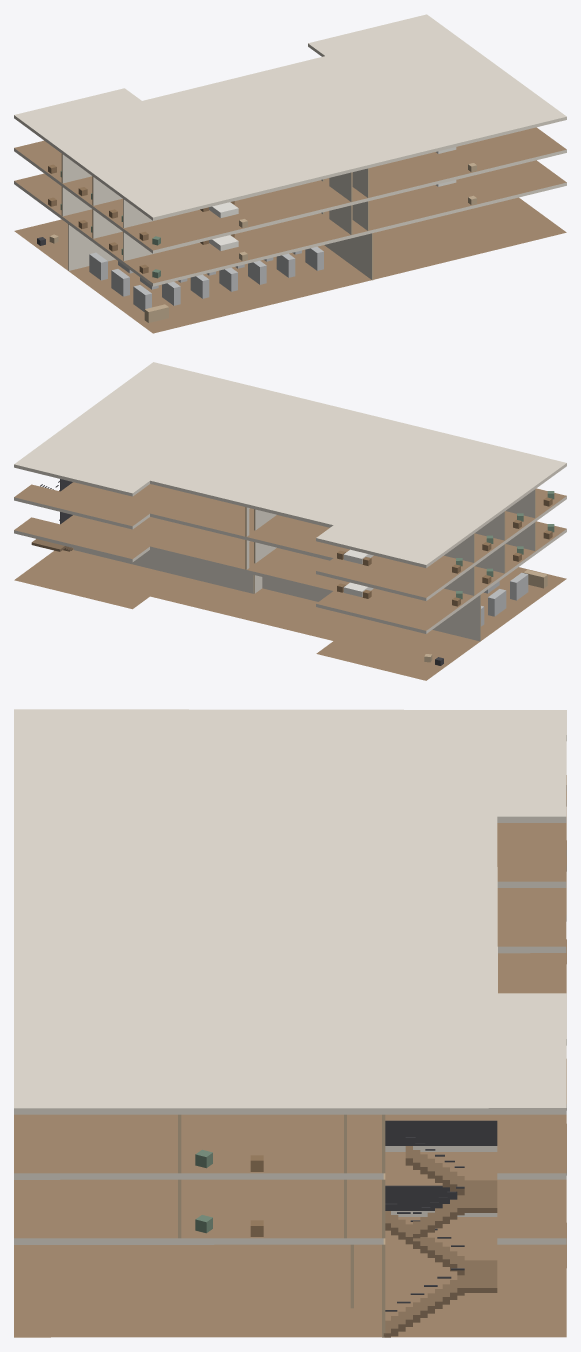
Rendered from interior.glb.
3 views of the same model, one above another, from view 1: azimuth 30°, elevation 25°; view 2: azimuth 150°, elevation 25°; view 3: azimuth 270°, elevation 25° (orthographic). The views are drawn at different scales.
Visible parts, largest first — view 1: slabs, partitions, coarse-s0, coarse-s1, coarse-s2; view 2: slabs, partitions, coarse-s0, coarse-s1, coarse-s2, stair; view 3: slabs, stair, partitions.
Part boxes in pixels (bbox=[...]): slabs: bbox=[14, 14, 566, 333]; partitions: bbox=[61, 154, 373, 280]; coarse-s0: bbox=[37, 234, 323, 322]; coarse-s1: bbox=[48, 180, 476, 278]; coarse-s2: bbox=[48, 147, 476, 245]; slabs: bbox=[14, 362, 566, 680]; partitions: bbox=[73, 489, 535, 641]; coarse-s0: bbox=[424, 569, 547, 665]; coarse-s1: bbox=[337, 524, 554, 606]; coarse-s2: bbox=[337, 491, 554, 573]; stair: bbox=[31, 479, 73, 551]; slabs: bbox=[14, 709, 566, 1337]; stair: bbox=[383, 1120, 497, 1337]; partitions: bbox=[178, 1114, 385, 1337].
Size of the model in its own units: 34.66 by 9.3 by 20.3.
